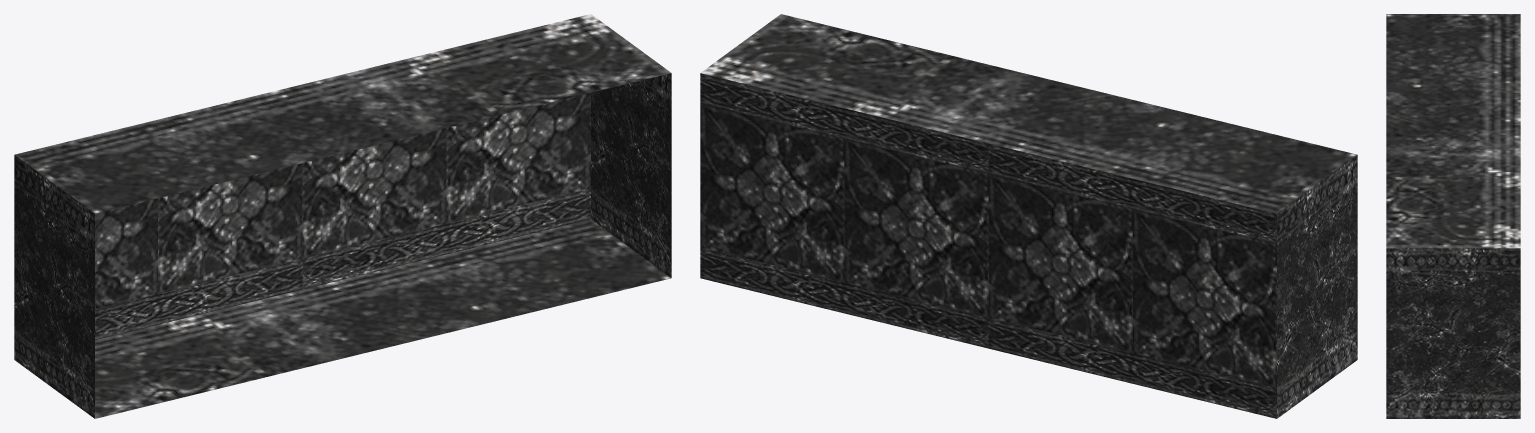
Rendered from beam_003.fbx.
3 renders of one model, left to right at view 1: azimuth 30°, elevation 25°; view 2: azimuth 150°, elevation 25°; view 3: azimuth 270°, elevation 25°, orthographic. The views are drawn at different scales.
Parts seen in each view (by area): view 1: Cube.010; view 2: Cube.010; view 3: Cube.010.
Boxes of the visible parts, <box> form: Cube.010: <box>14,14,671,418</box>; Cube.010: <box>700,14,1357,418</box>; Cube.010: <box>1386,14,1520,418</box>.
Bounding box in the file's own units: 111 × 37.75 × 26.92.
